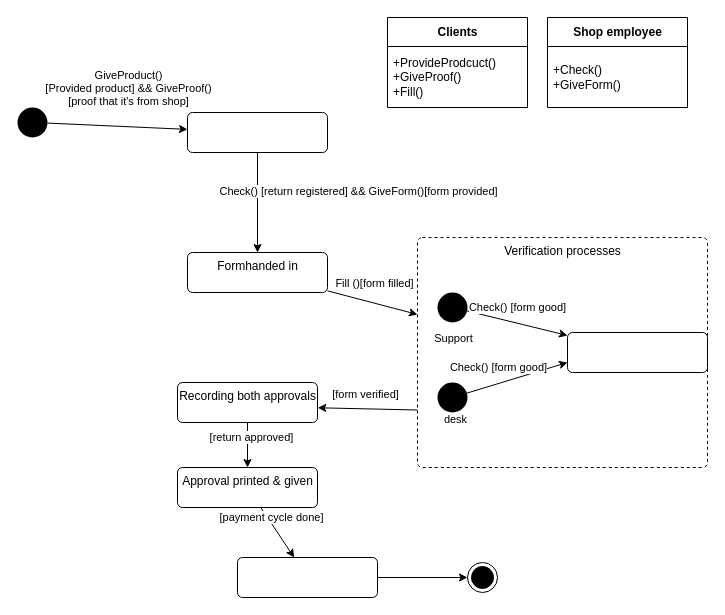
Some shapes in this 725 by 615 pixel diagram are drawn without their labels. The shapes that lost their labels are listed below. From the top down, each one's centre as x and y in pixels, then its label:
At (x=257, y=132): "Iniciated return".
At (x=637, y=352): "Verified".
At (x=307, y=577): "Money transfered".
